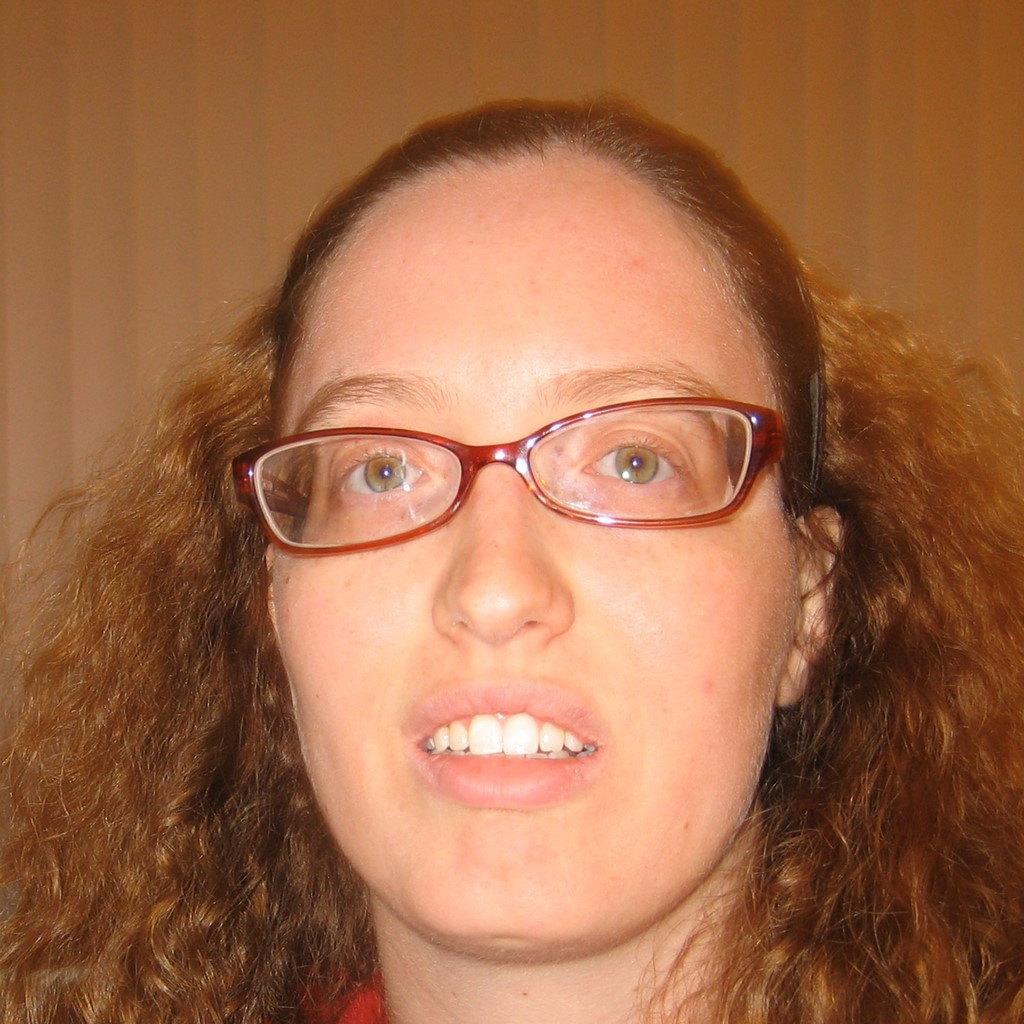sin_mascara: (273, 144, 794, 962)
